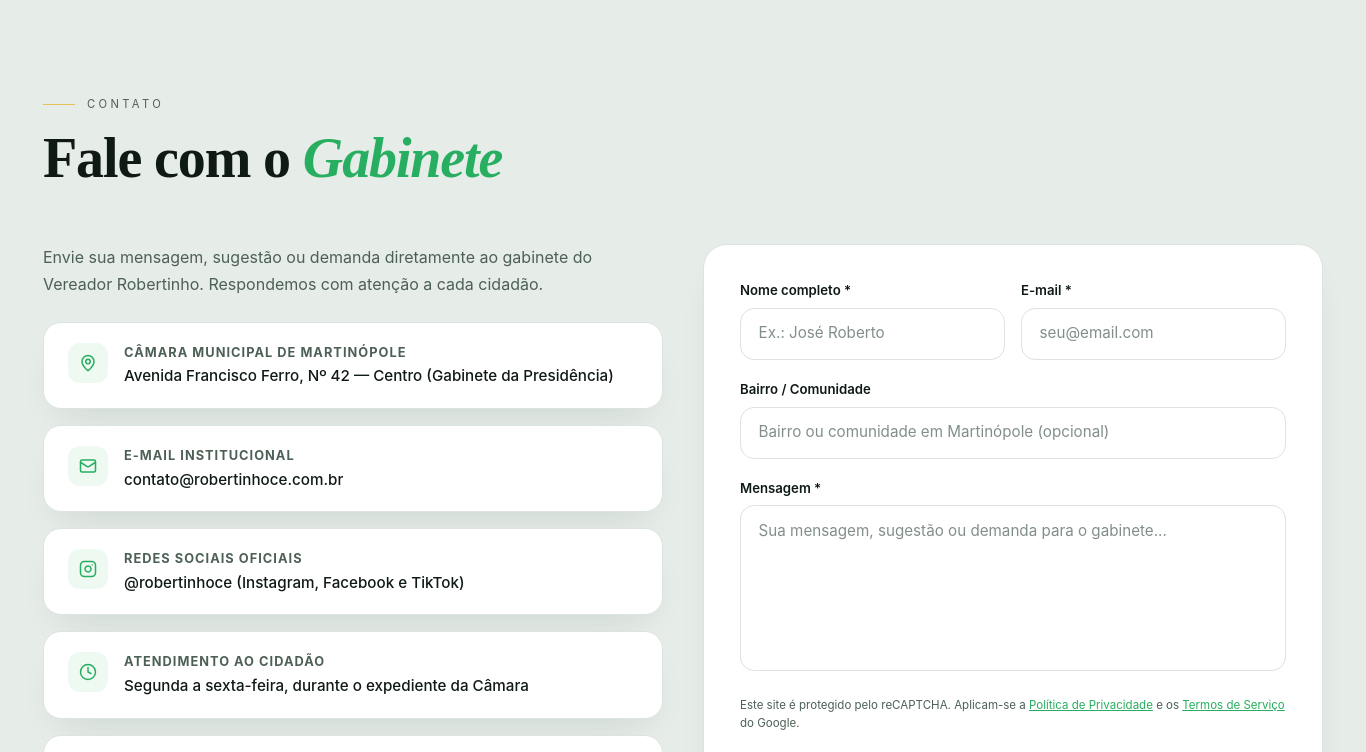
Test: Formulário de Contato (Formspark + reCAPTCHA v3) › volta ao formulário ao clicar em 'Enviar outra mensagem'
The width and height of the screenshot is (1366, 752).
Type "José Roberto" into the field labelled "Nome completo *". click: (872, 334)
box: [740,308,1005,360]
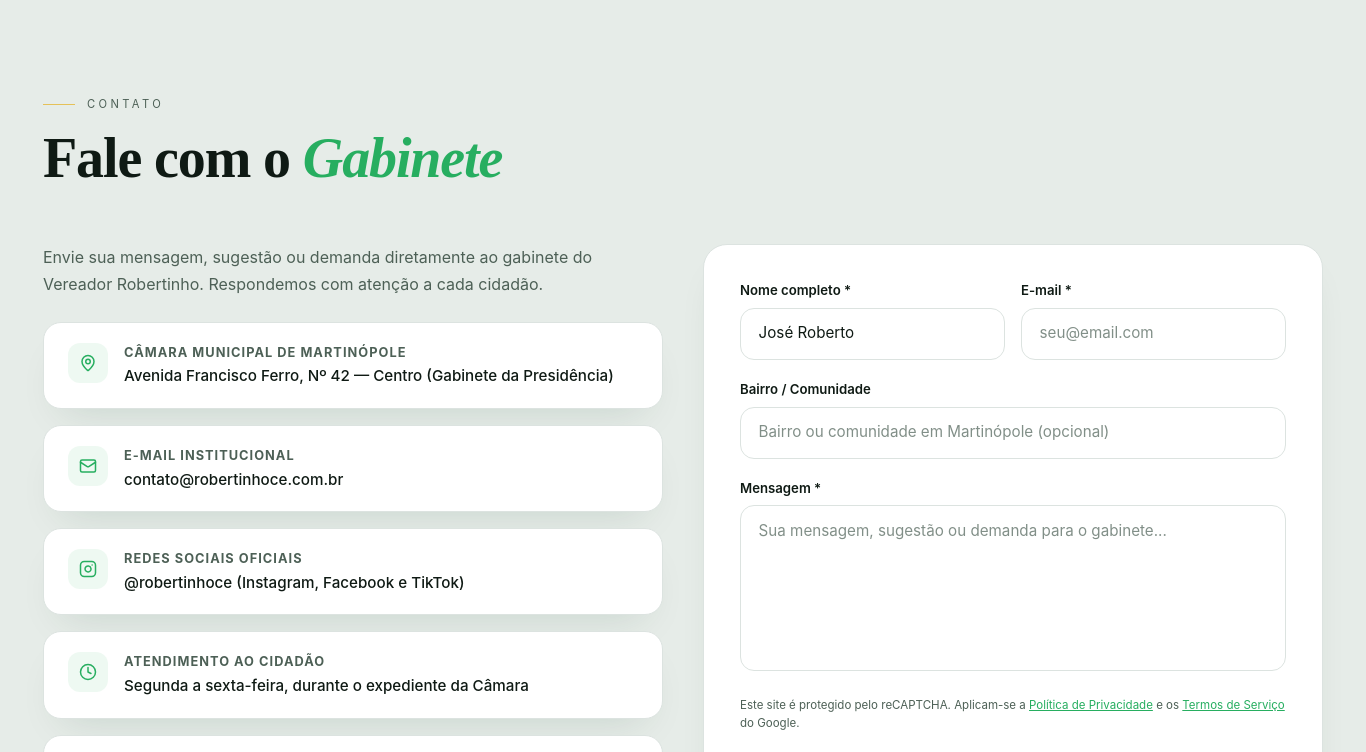
Type "jose@teste.com" into the field labelled "E-mail *". click: (1154, 334)
box: [1021,308,1286,360]
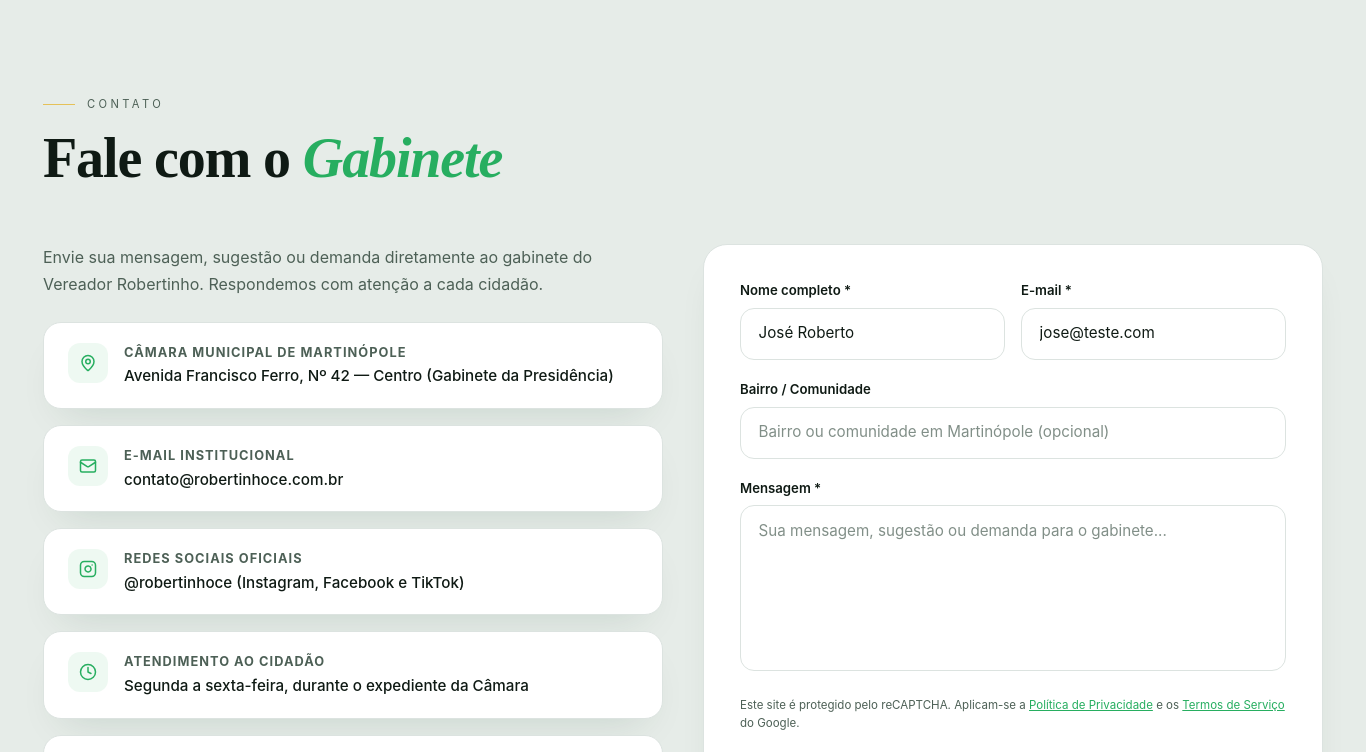
Type "Mensagem de teste" into the text box labelled "Mensagem *". click: (1013, 588)
box: [740,506,1286,671]
(page scrolled)
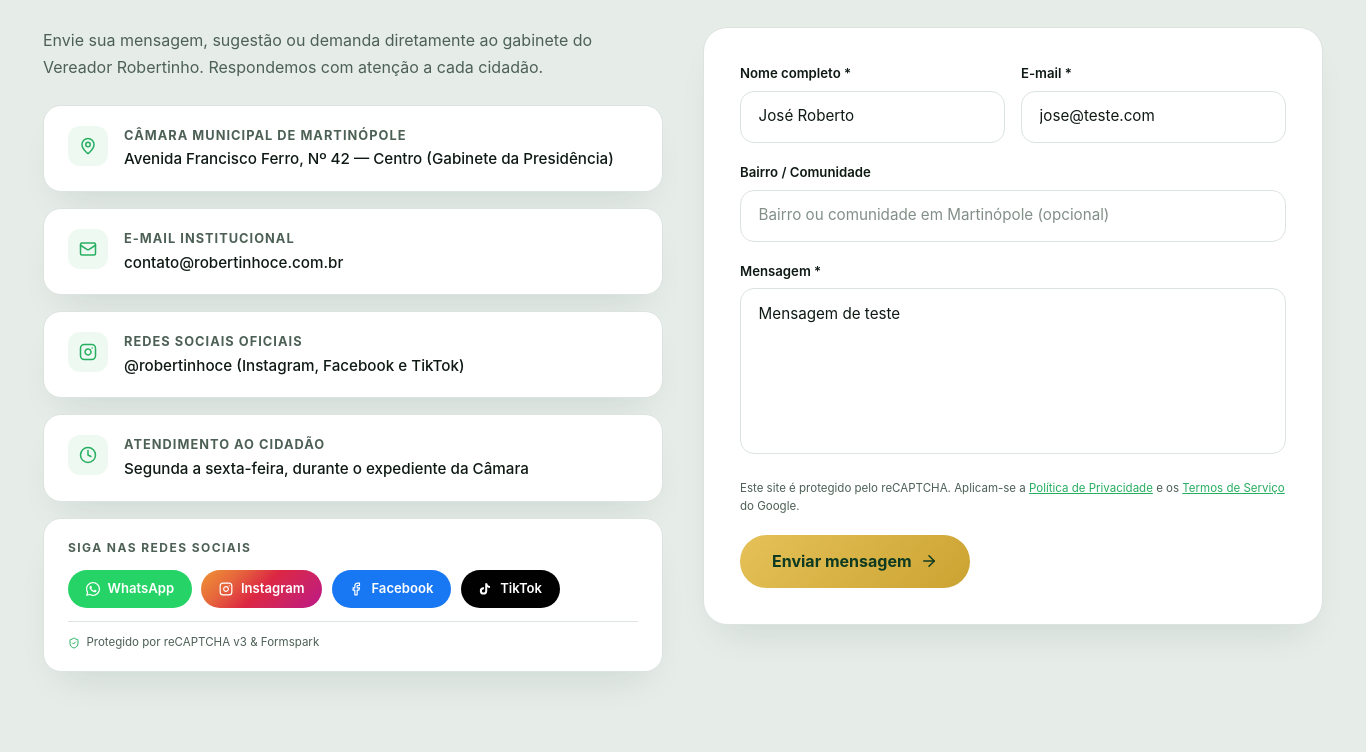
Click the button "Enviar mensagem". click: (855, 561)
box: [740,535,970,588]
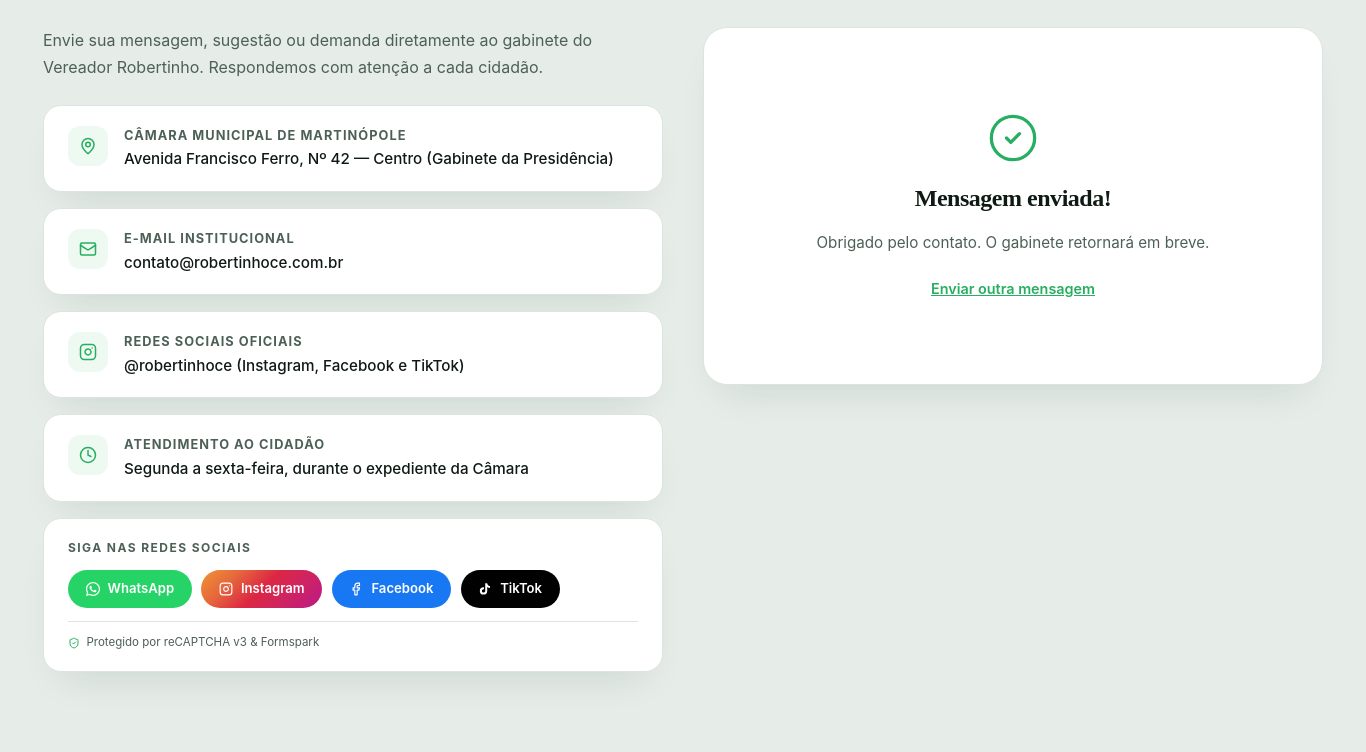
expect the heading "Mensagem enviada!" is shown: met, box [915,180,1111,216]
Click the button "Enviar outra mensagem". click: (1013, 289)
box: [931,278,1095,300]
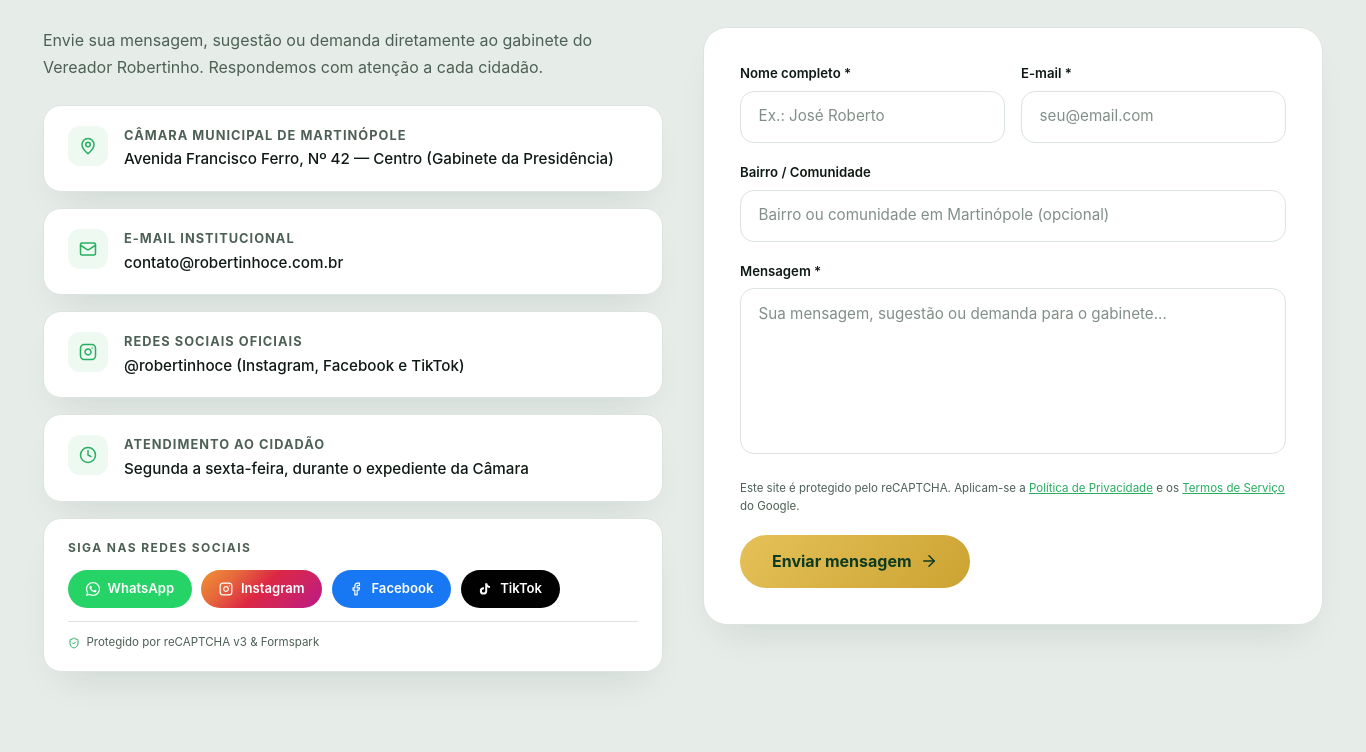
expect the button "Enviar mensagem" is shown: met, box [740,535,970,588]
